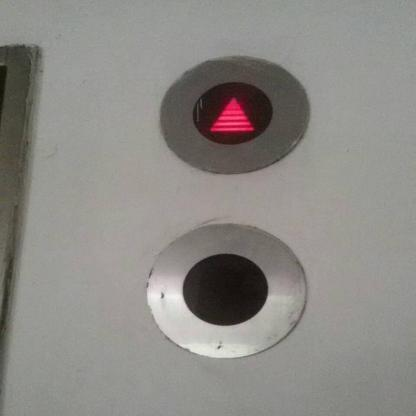empty: (143, 219, 310, 362)
up: (155, 52, 312, 178)
